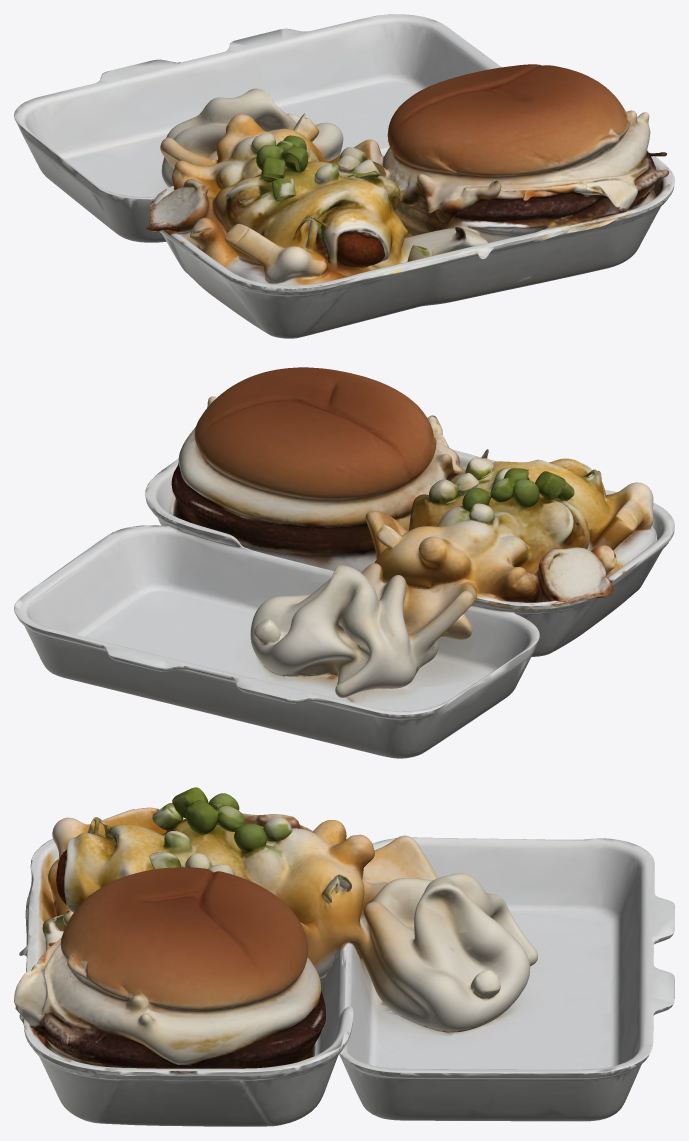
File: smashburger-cheesefries.glb
3 views of the same model, one above another, from view 1: azimuth 30°, elevation 25°; view 2: azimuth 150°, elevation 25°; view 3: azimuth 270°, elevation 25° (orthographic). The views are drawn at different scales.
Parts seen in each view (by area): view 1: node_0; view 2: node_0; view 3: node_0.
Boxes of the visible parts, bbox=[...] form: node_0: bbox=[14, 14, 674, 338]; node_0: bbox=[14, 367, 674, 758]; node_0: bbox=[14, 787, 674, 1126].
Bounding box in the file's own units: 0.9066 × 0.2997 × 1.
1 material, 1 textured.
